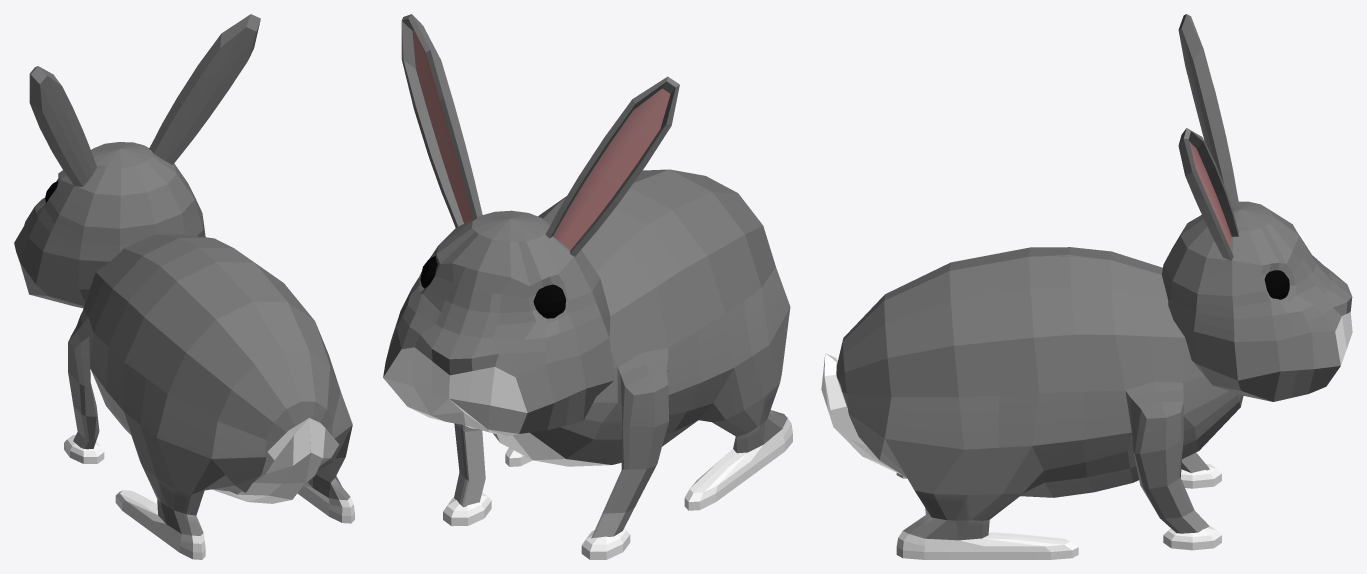
The model's file is BunnyFinal.fbx.
3 renders of one model, left to right at view 1: azimuth 30°, elevation 25°; view 2: azimuth 150°, elevation 25°; view 3: azimuth 270°, elevation 25°, orthographic. The views are drawn at different scales.
Visible parts, largest first — view 1: Plane.001; view 2: Plane.001; view 3: Plane.001.
Boxes of the visible parts, x1,y1,x2,y2 form: Plane.001: (14, 14, 354, 559); Plane.001: (383, 14, 792, 559); Plane.001: (821, 14, 1352, 559).
Size of the model in its own units: 228 by 383 by 415.
Materials: 1 (1 with a texture image).
